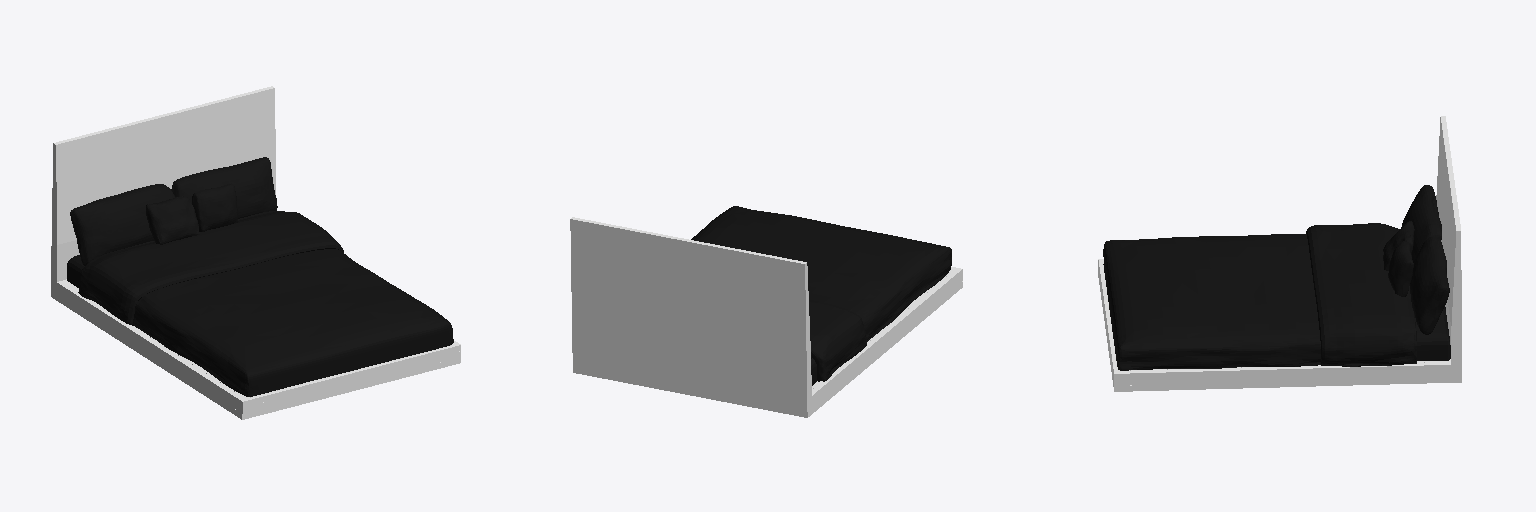
File: cama2.obj
3 renders of one model, left to right at view 1: azimuth 30°, elevation 25°; view 2: azimuth 150°, elevation 25°; view 3: azimuth 270°, elevation 25°, orthographic.
Visible parts, largest first — view 1: Queen_Size_Bed_with_Black_Sheets_White_v1.001; view 2: Queen_Size_Bed_with_Black_Sheets_White_v1.001; view 3: Queen_Size_Bed_with_Black_Sheets_White_v1.001.
Part boxes in pixels (left/top/right/bottom): Queen_Size_Bed_with_Black_Sheets_White_v1.001: left=51, top=86, right=460, bottom=419; Queen_Size_Bed_with_Black_Sheets_White_v1.001: left=570, top=206, right=962, bottom=417; Queen_Size_Bed_with_Black_Sheets_White_v1.001: left=1098, top=116, right=1461, bottom=391.
Bounding box in the file's own units: 179 × 114 × 229.